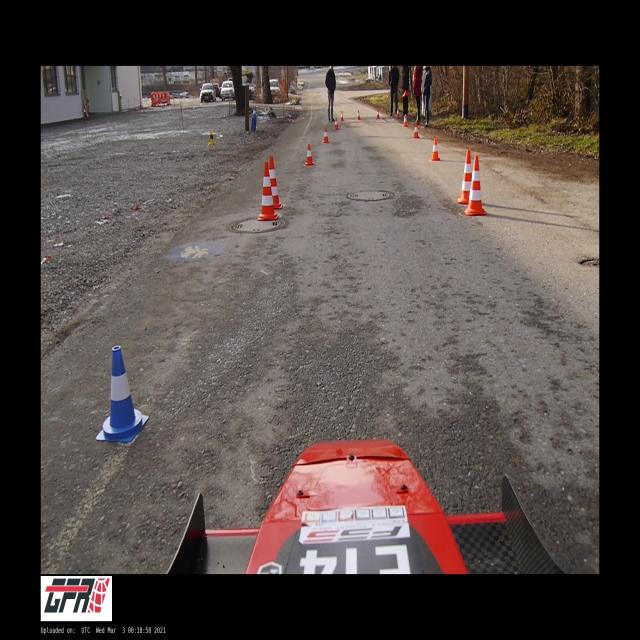blue_cone: (96, 346, 150, 442), (252, 107, 257, 118)
large_orange_cone: (464, 156, 486, 214), (258, 162, 278, 220), (458, 150, 472, 203), (269, 156, 282, 209)
orange_cone: (431, 138, 440, 161), (305, 144, 314, 164), (323, 127, 329, 143), (414, 122, 419, 138), (334, 118, 339, 130), (403, 114, 407, 126), (340, 111, 344, 121), (376, 109, 380, 119), (402, 90, 408, 96), (357, 110, 360, 120), (396, 108, 399, 118)
yellow_cone: (209, 130, 215, 145)
